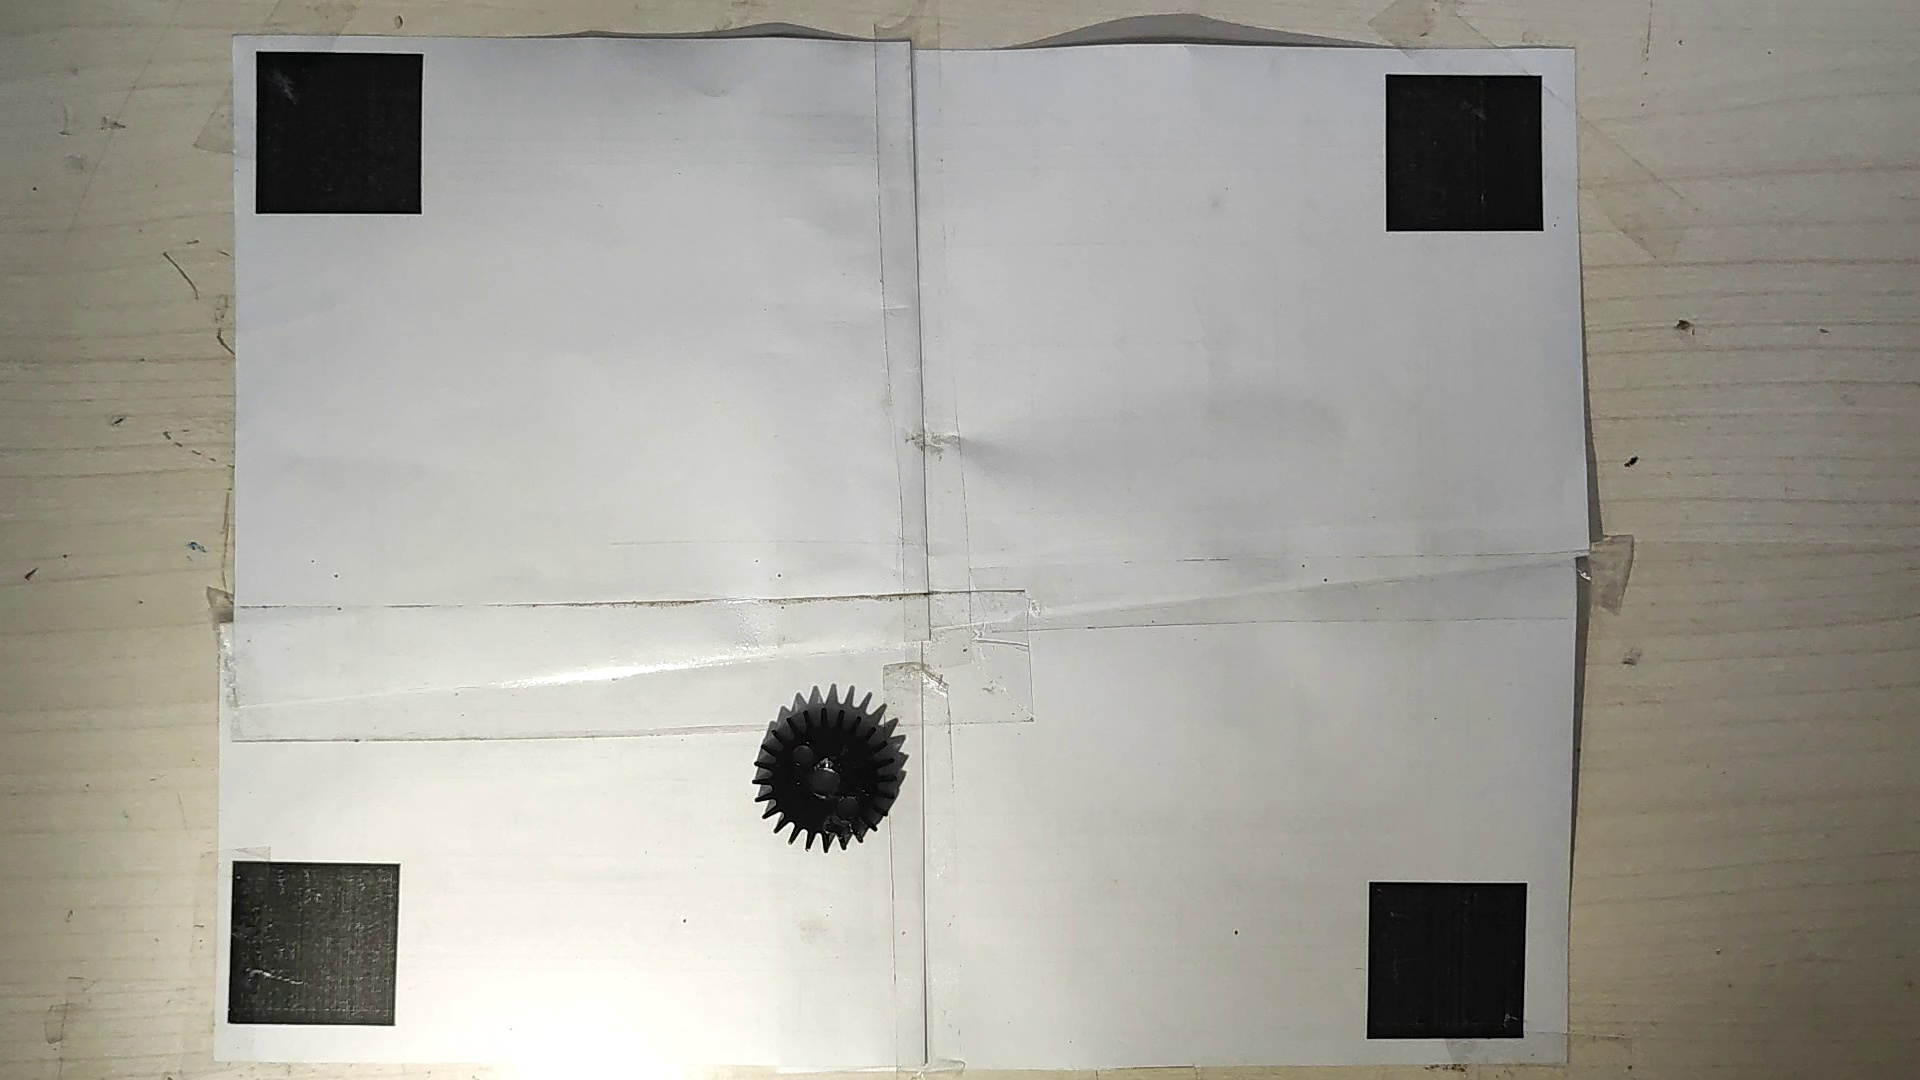Gear: (752, 694, 901, 849)
